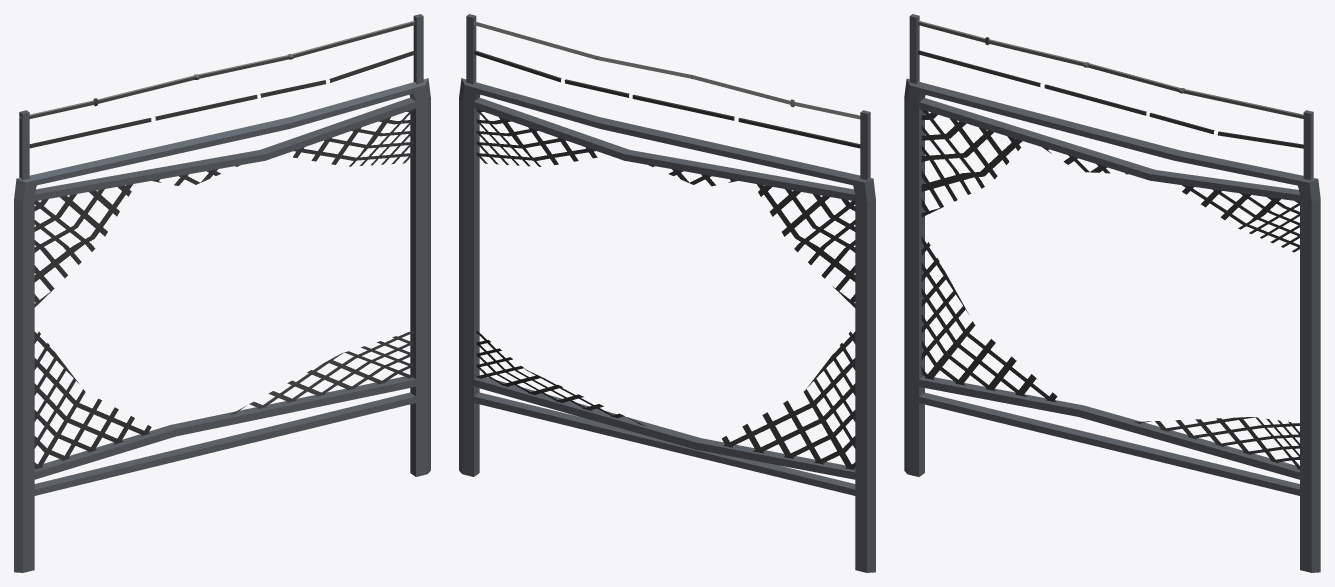
File: SM_Prop_Fence_Damaged_03.glb
3 views of the same model, side by side, from view 1: azimuth 30°, elevation 25°; view 2: azimuth 150°, elevation 25°; view 3: azimuth 330°, elevation 25° (orthographic).
Visible parts, largest first — view 1: SM_Prop_Fence_Damaged_03; view 2: SM_Prop_Fence_Damaged_03; view 3: SM_Prop_Fence_Damaged_03.
Part boxes in pixels (x1,y1,x2,y2): SM_Prop_Fence_Damaged_03: [14, 14, 430, 572]; SM_Prop_Fence_Damaged_03: [459, 14, 875, 572]; SM_Prop_Fence_Damaged_03: [904, 14, 1320, 572].
Bounding box in the file's own units: 3.03 × 3.19 × 0.1864.
2 materials, 2 textured.
